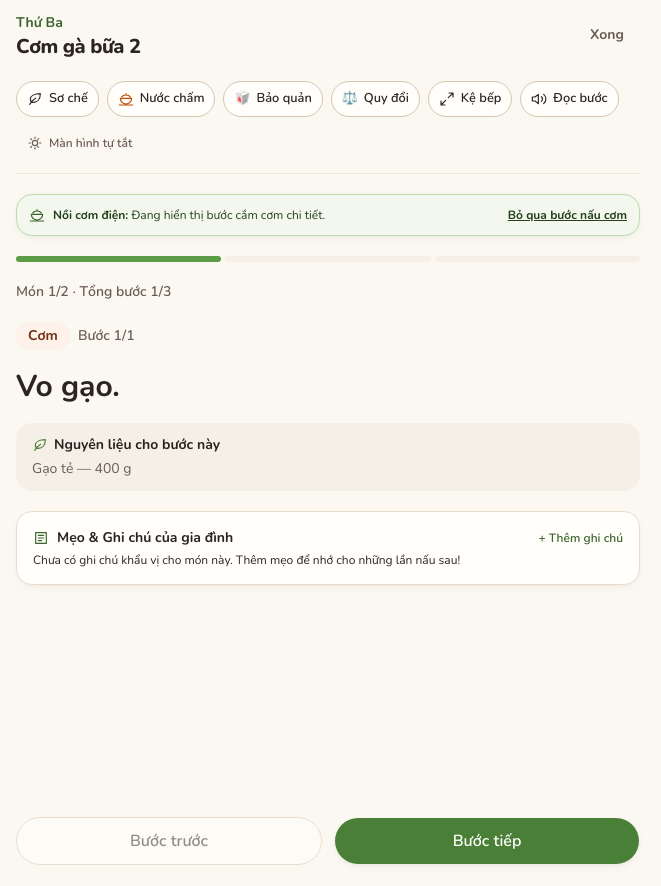
CookingPage › moves through the dishes one step at a time, each dish finished before the next starts
The image size is (661, 886).
Expected: the text "Vo gạo." is shown, x1=16 y1=366 x2=120 y2=407
Expected: the text "Món 1/2 · Tổng bước 1/3" is shown, x1=16 y1=282 x2=171 y2=301
Click the button "Bước tiếp".
click(487, 841)  # box x1=334 y1=817 x2=640 y2=865
(page scrolled)
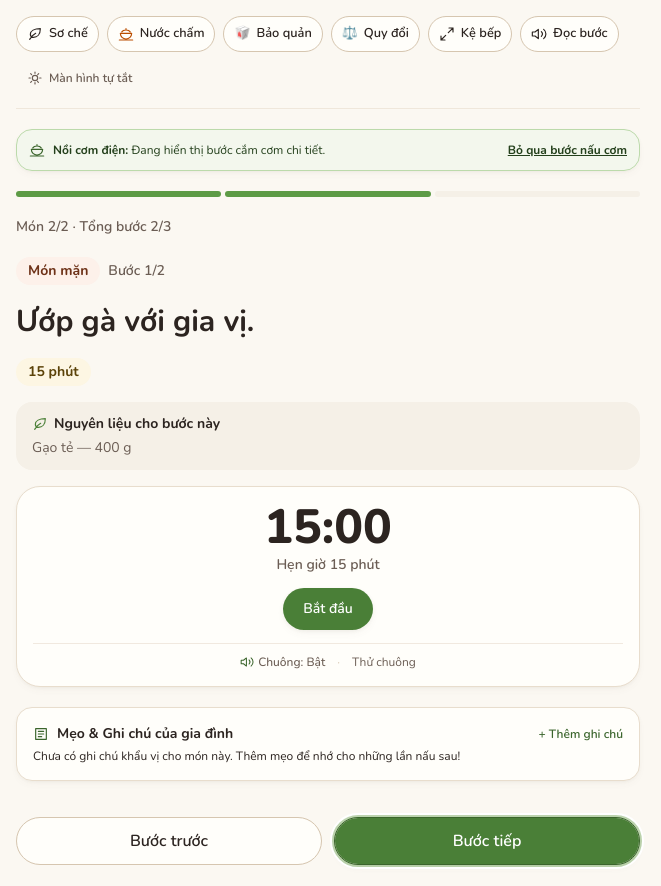
Expected: the text "Ướp gà với gia vị." is shown, x1=16 y1=301 x2=254 y2=342
Expected: the text "Món 2/2 · Tổng bước 2/3" is shown, x1=16 y1=217 x2=171 y2=236
Click the button "Bước tiếp".
click(487, 841)  # box x1=334 y1=817 x2=640 y2=865
(page scrolled)
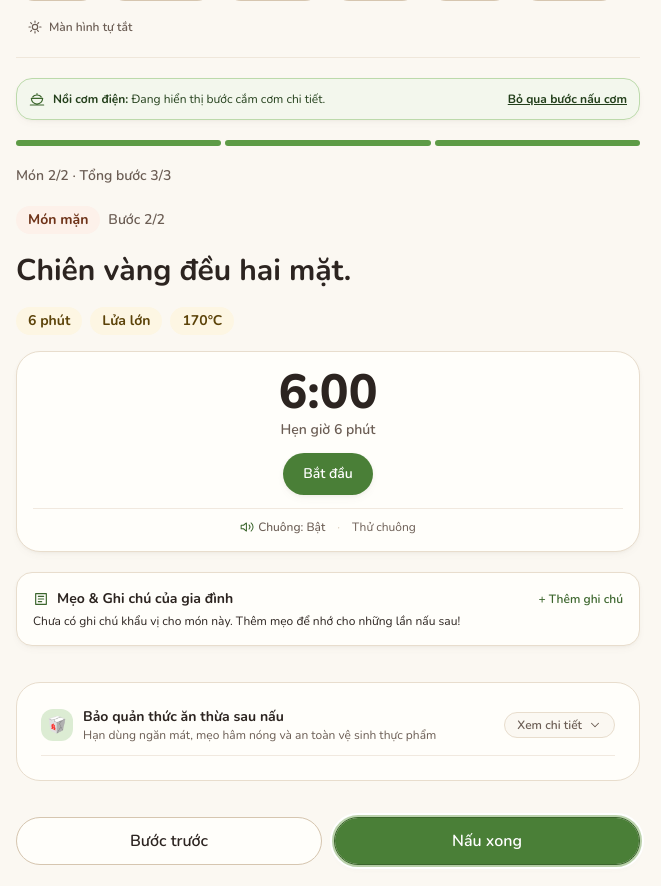
Expected: the text "Chiên vàng đều hai mặt." is shown, x1=16 y1=250 x2=351 y2=291
Expected: the button "Bước tiếp" is gone
Expected: the button "Nấu xong" is shown, x1=334 y1=817 x2=640 y2=865
